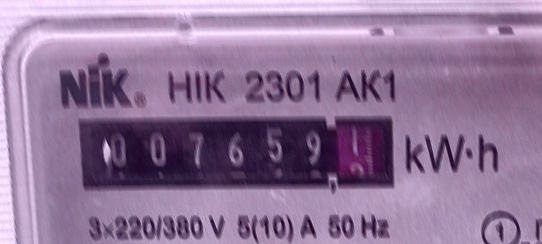0: (146, 130, 170, 167), (107, 129, 129, 169)
1: (346, 122, 363, 158)
5: (264, 125, 285, 163)
6: (224, 130, 247, 166)
7: (184, 129, 206, 168)
9: (302, 128, 324, 165)
screen: (69, 107, 404, 200)
